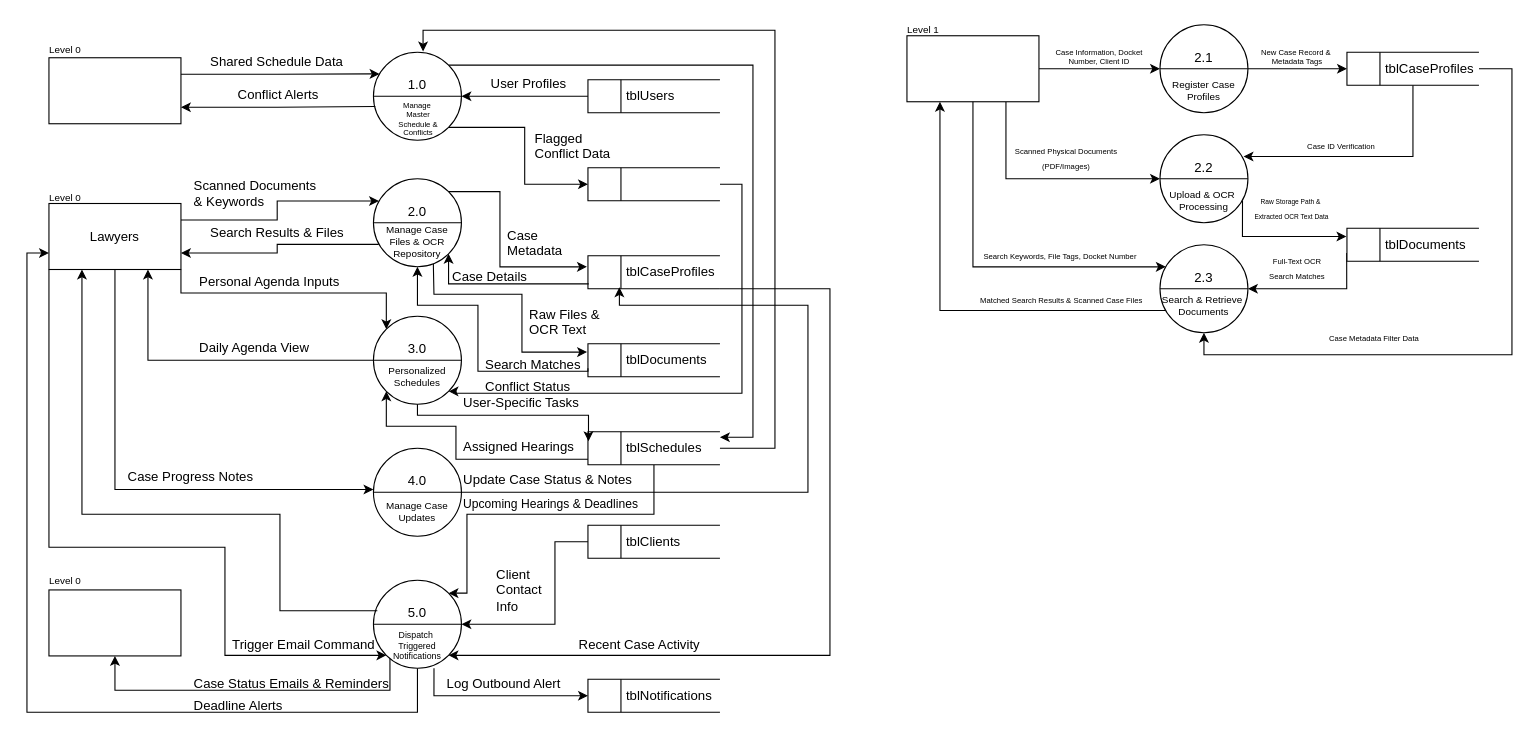
Image size: 1540x752. Some labels were removed from this diagram. The centre of each missing label's shape, as x and y in pixels:
"Administrator" goes at pixel 114 90.
"Clients" goes at pixel 114 622.
"Lawyer" goes at pixel 972 68.
"tblConflicts" goes at pixel 653 184.
